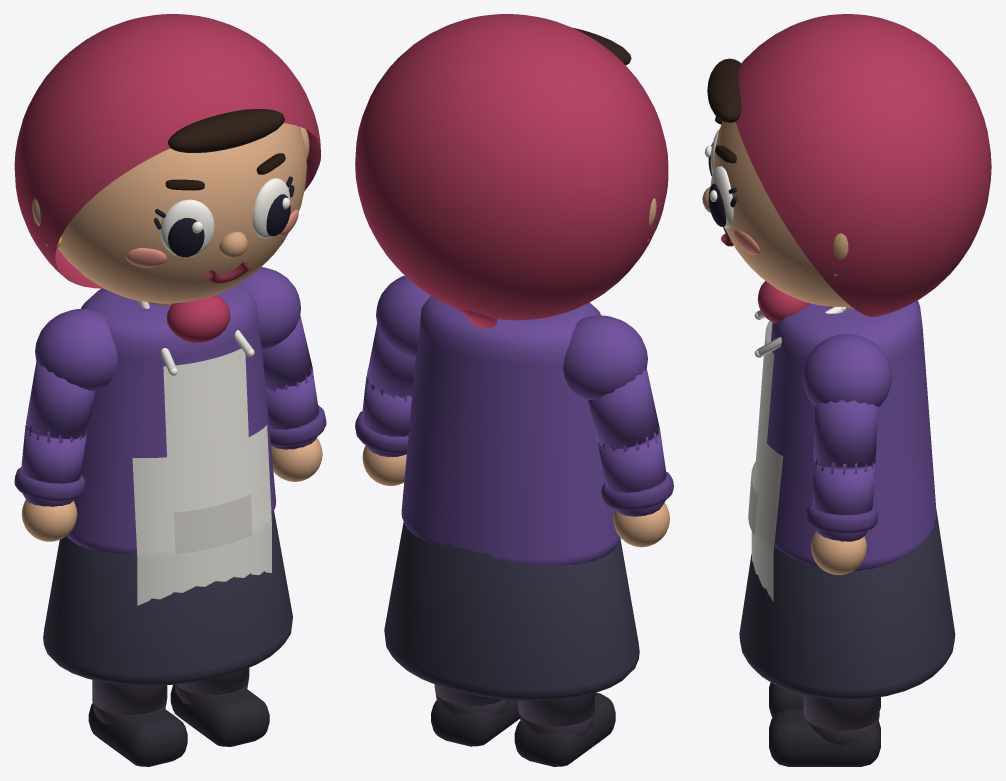
Rendered from ch_zarema.fbx.
The picture shows the model from 3 angles, left to right: view 1: azimuth 30°, elevation 25°; view 2: azimuth 150°, elevation 25°; view 3: azimuth 270°, elevation 25°; orthographic projection. The views are drawn at different scales.
Visible parts, largest first — view 1: ch_zarema; view 2: ch_zarema; view 3: ch_zarema.
Part boxes in pixels (left/top/right/bottom): ch_zarema: left=14, top=14, right=326, bottom=766; ch_zarema: left=355, top=14, right=673, bottom=766; ch_zarema: left=702, top=14, right=991, bottom=766.
Size of the model in its own units: 0.6913 by 1.54 by 0.5681.
